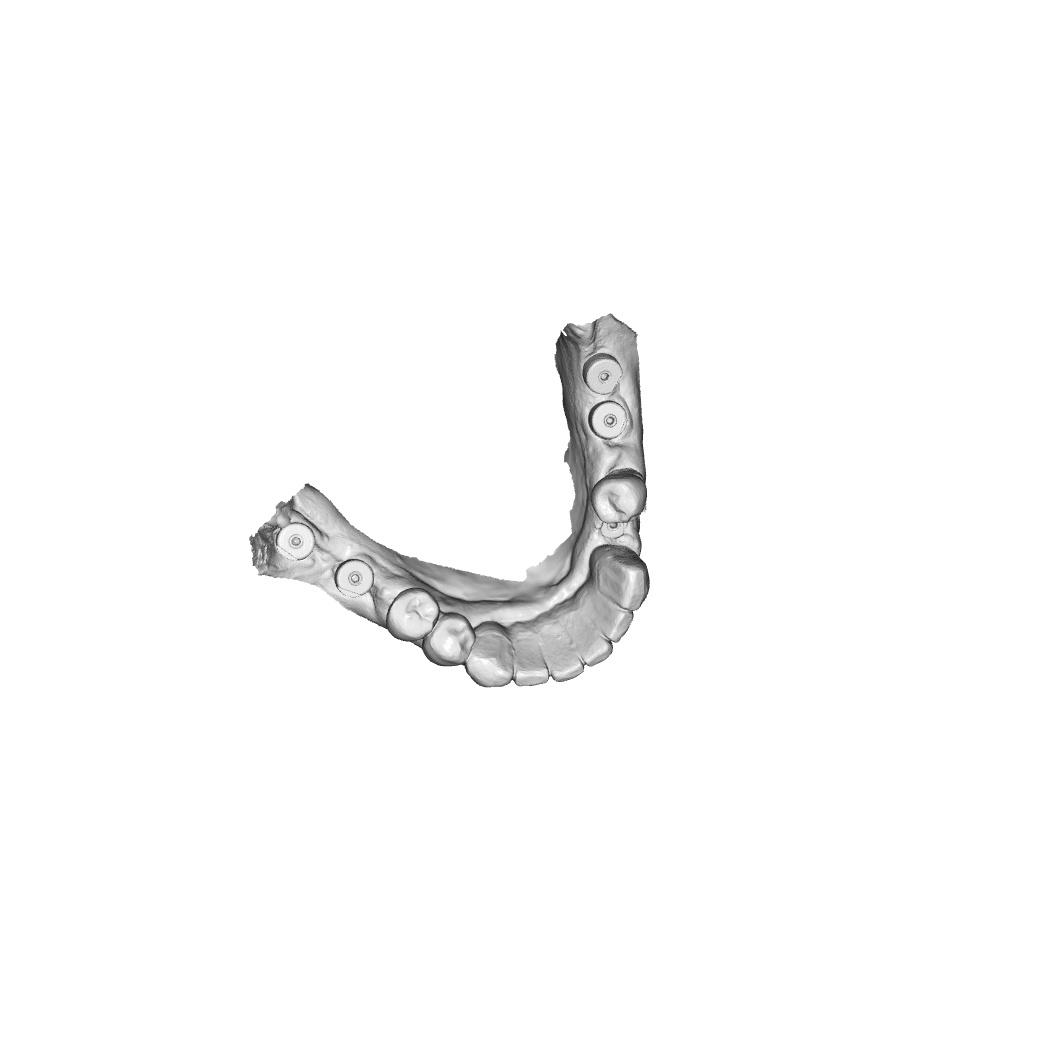canine: (463, 623, 515, 689), (593, 554, 650, 612)
implant: (581, 352, 623, 396), (274, 521, 317, 563), (334, 558, 376, 600), (588, 399, 629, 441), (600, 522, 626, 540)
incisor: (542, 630, 586, 683), (511, 631, 550, 688), (588, 602, 635, 643), (572, 623, 614, 668)
premolar: (384, 587, 441, 643), (420, 611, 473, 667), (591, 469, 647, 522)
